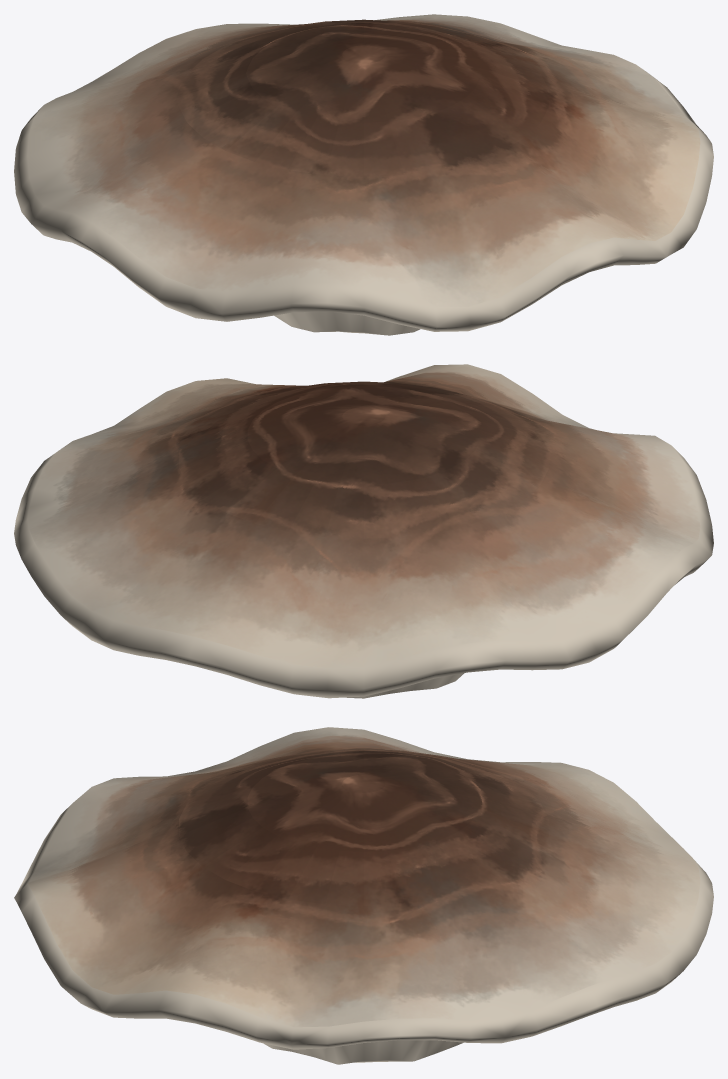
Rendered from Mushroom_Platform01.fbx.
The picture shows the model from 3 angles, top to bottom: view 1: azimuth 30°, elevation 25°; view 2: azimuth 150°, elevation 25°; view 3: azimuth 270°, elevation 25°; orthographic projection.
Visible parts, largest first — view 1: pCylinder1; view 2: pCylinder1; view 3: pCylinder1.
Boxes of the visible parts, x1,y1,x2,y2 form: pCylinder1: [14, 14, 713, 335]; pCylinder1: [14, 364, 713, 698]; pCylinder1: [14, 727, 713, 1064].
Size of the model in its own units: 10.72 by 4.28 by 10.72.
Materials: 1 (1 with a texture image).
